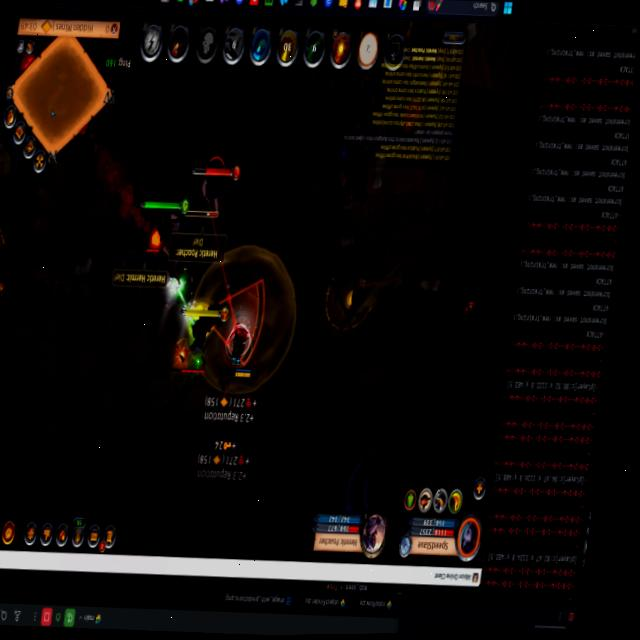ore: (175, 288, 234, 380), (121, 199, 188, 262), (188, 147, 238, 223)
red: (220, 316, 261, 382)
silver: (210, 279, 268, 365)
stone: (163, 265, 188, 297)
